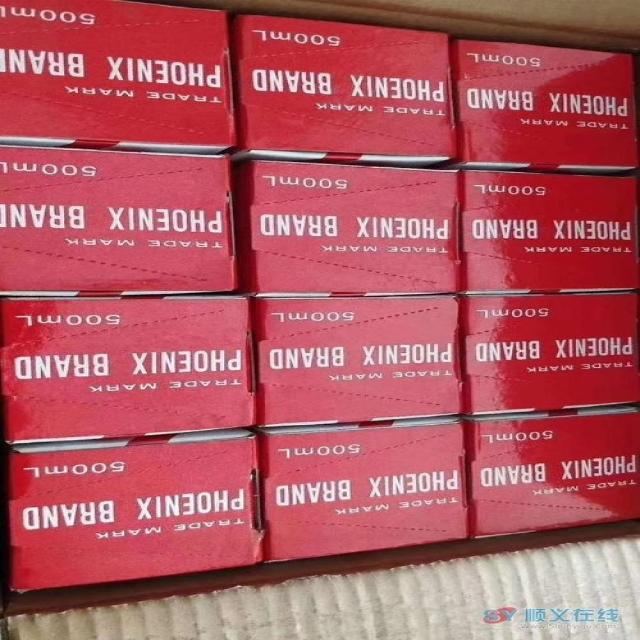box: (2, 2, 639, 639), (7, 429, 269, 591), (0, 294, 258, 444), (0, 1, 233, 154), (3, 143, 237, 292), (234, 15, 457, 167), (255, 416, 473, 565), (240, 159, 466, 294), (424, 39, 639, 174), (254, 294, 462, 428), (468, 407, 639, 539), (460, 292, 639, 417), (462, 171, 639, 293)
